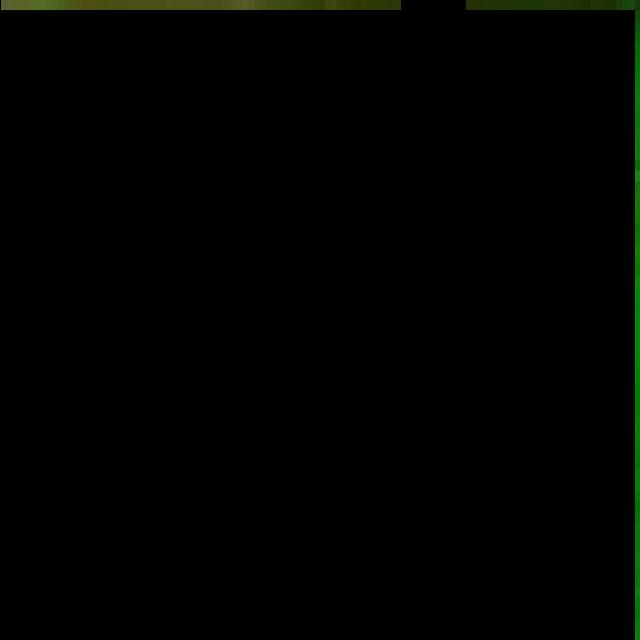nofire: (1, 10, 634, 640)
